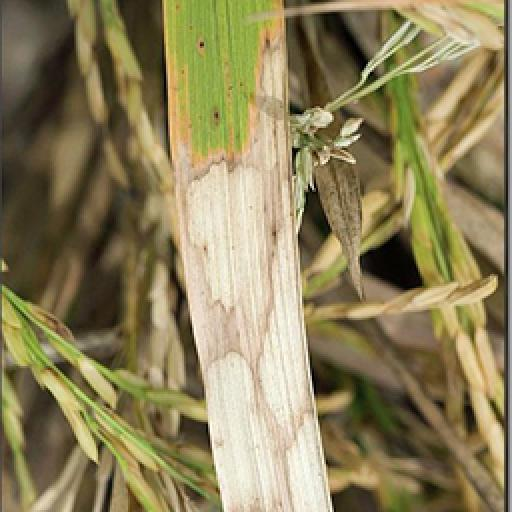Sheath Blight: (164, 24, 340, 512)
